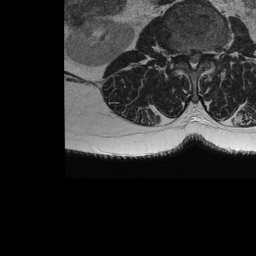CCS_stenosis: (190, 47, 196, 75)
LFS_stenosis: (203, 38, 210, 61)
LLS_stenosis: (196, 44, 203, 67)
RFS_severe_stenosis: (176, 42, 183, 62)
RLS_severe_stenosis: (183, 42, 190, 67)
